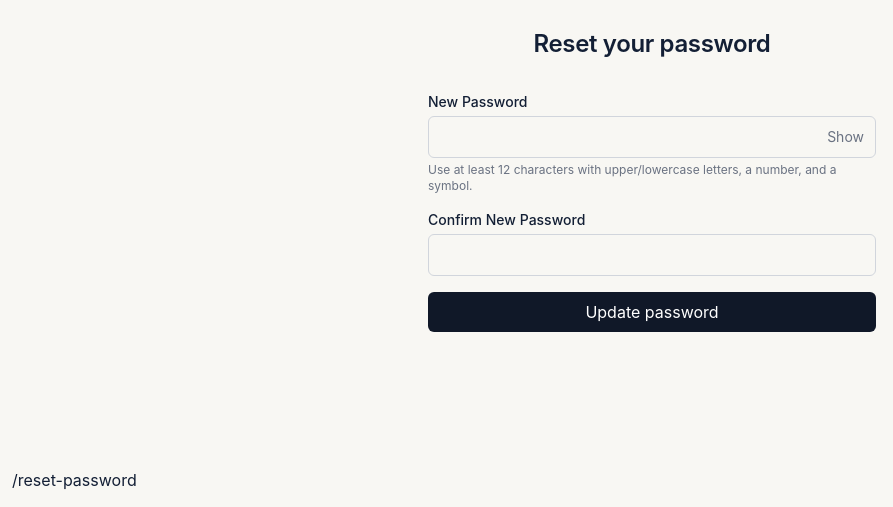
password reset email flow › sanitises an expired-session error on update (expiry path)
Type "Str0ng!Passw0rd" into the password field labelled "New Password" at (652, 137), box x1=428 y1=116 x2=876 y2=158
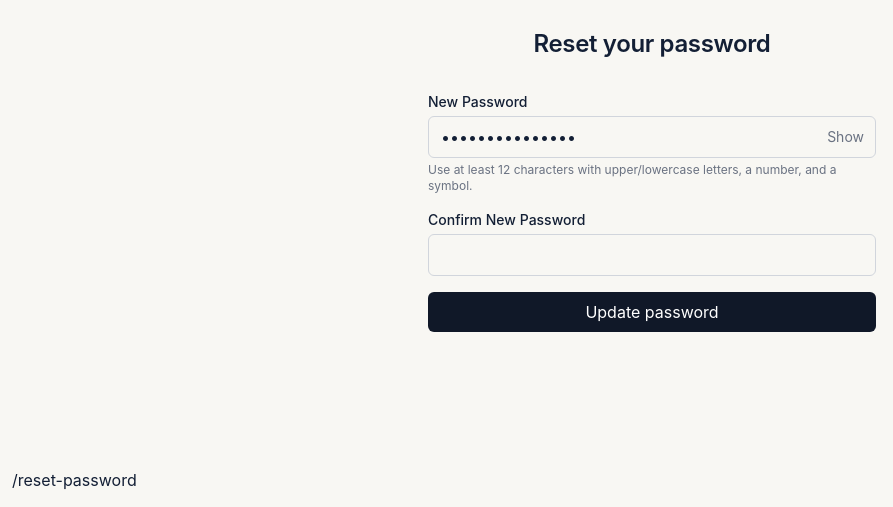
Type "Str0ng!Passw0rd" into the password field labelled "Confirm New Password" at (652, 255), box x1=428 y1=234 x2=876 y2=276
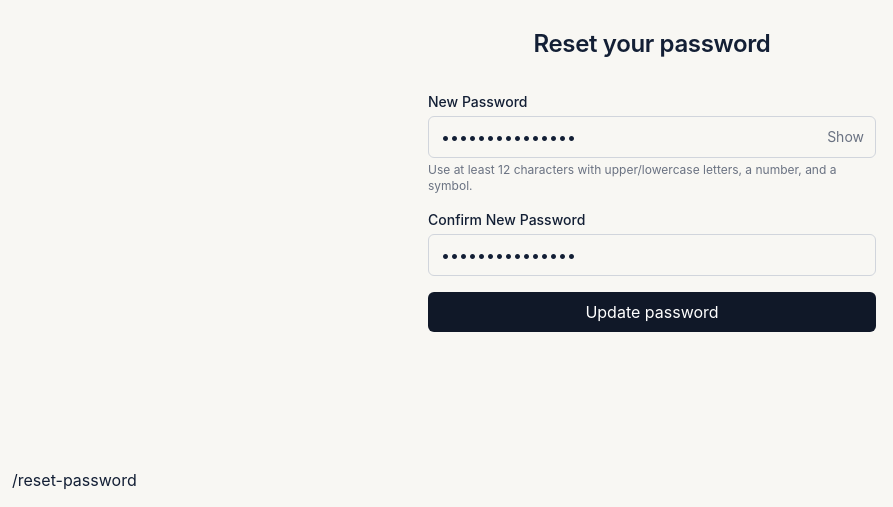
Click the button "Update password" at (652, 312), box x1=428 y1=292 x2=876 y2=332
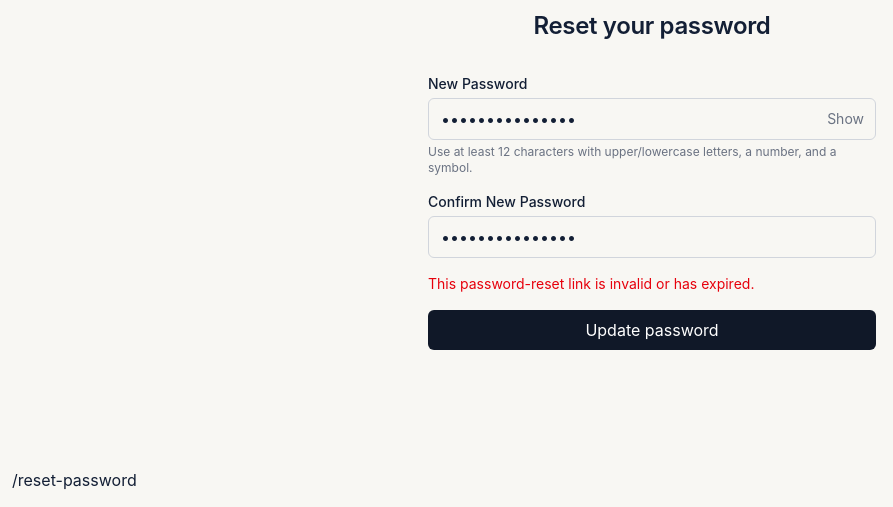
Expected: the message "This password-reset link is invalid or has expired." is shown, x1=428 y1=275 x2=754 y2=292
